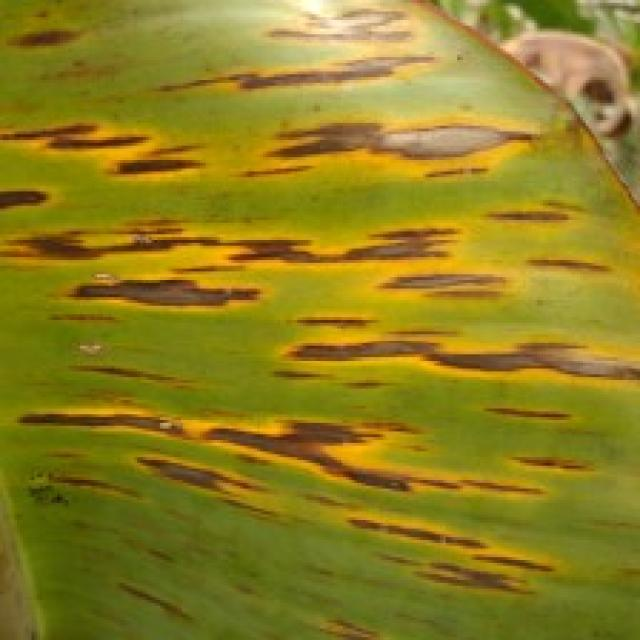Early_leaf_spot: (8, 388, 640, 597), (0, 194, 640, 319), (223, 289, 640, 400), (214, 86, 544, 189), (146, 49, 454, 103), (0, 103, 200, 177), (0, 323, 209, 388), (242, 0, 435, 51), (114, 560, 207, 634), (273, 599, 414, 640), (5, 8, 111, 58), (0, 170, 71, 217)
